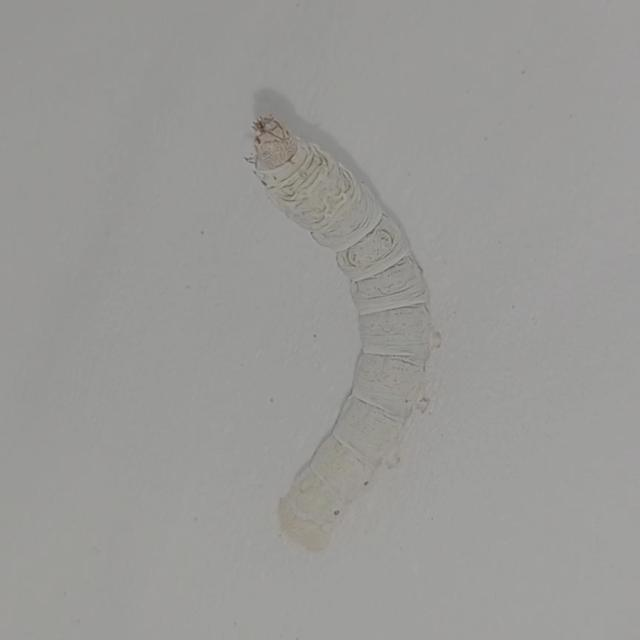Healthy: (216, 86, 462, 570)
